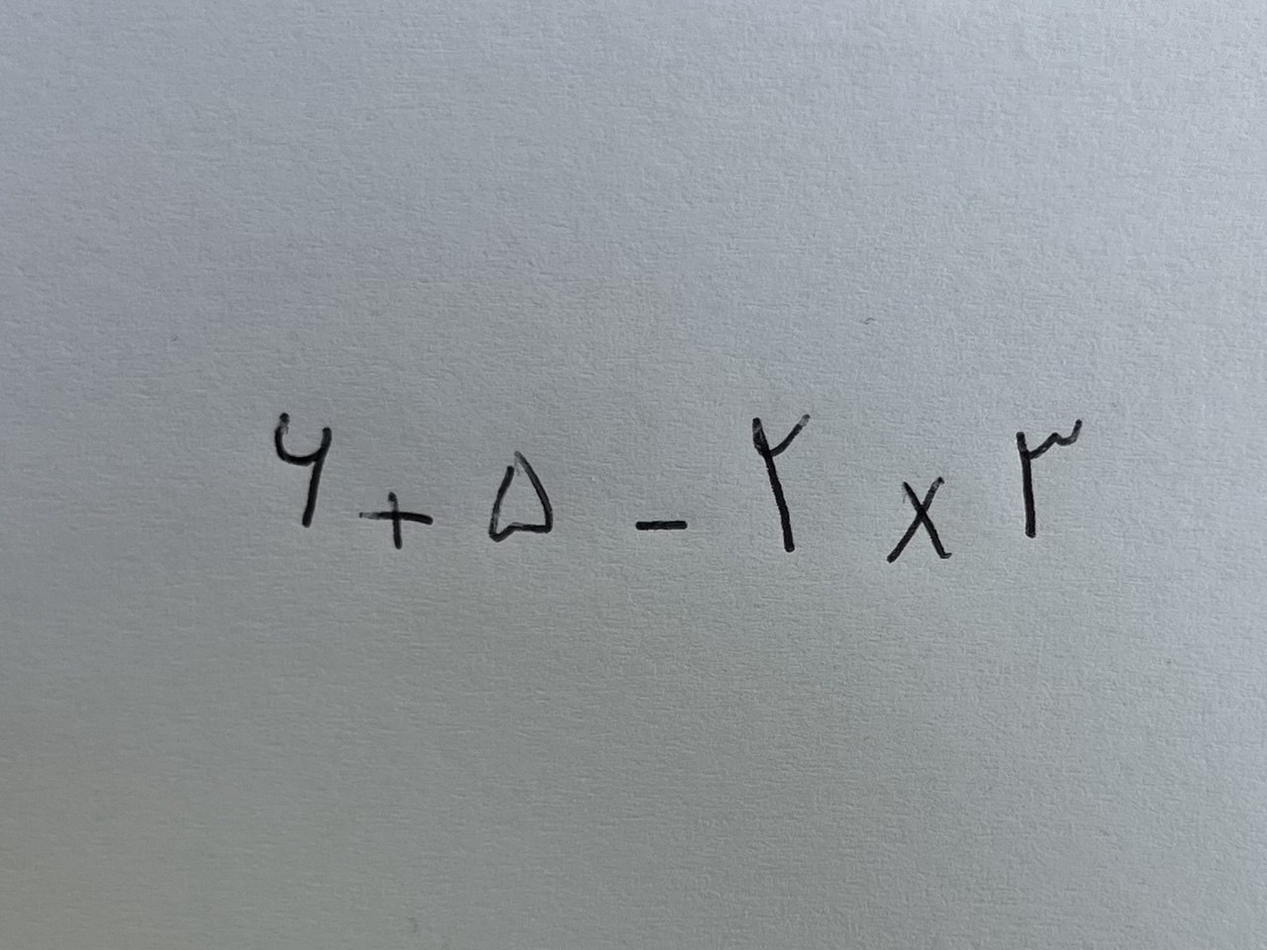character: (752, 412, 812, 554), (1016, 418, 1084, 539), (272, 411, 334, 530), (885, 475, 954, 565), (489, 448, 554, 543), (358, 489, 434, 550), (634, 519, 689, 531)
